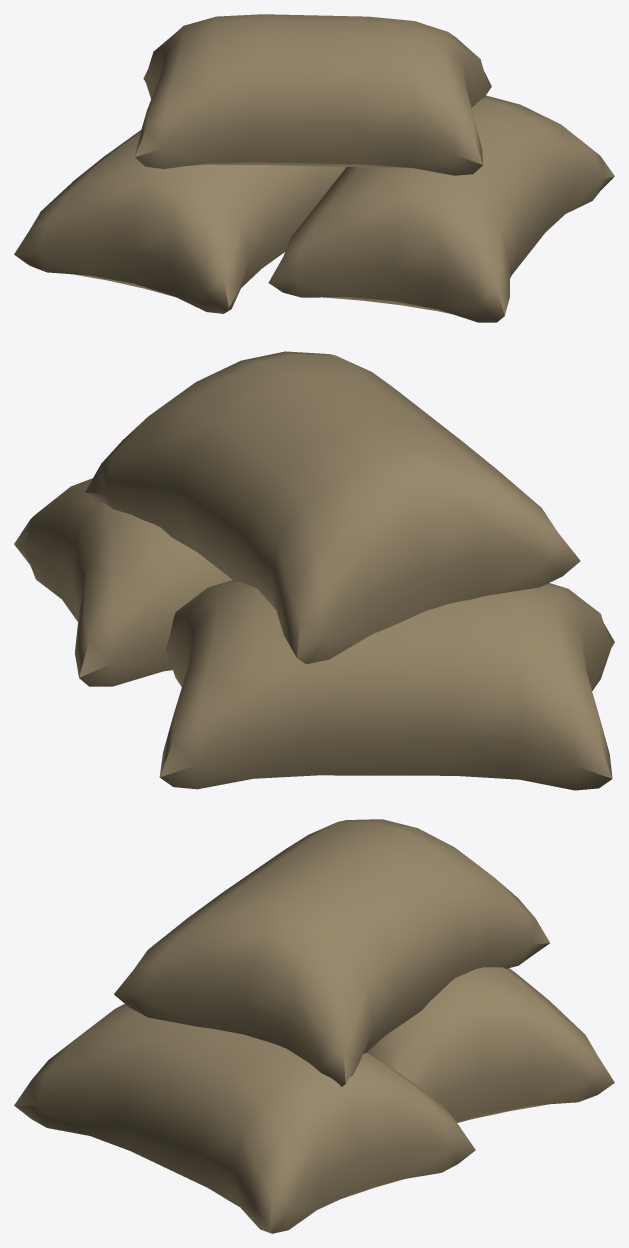
The model's file is Bags.glb.
3 views of the same model, one above another, from view 1: azimuth 30°, elevation 25°; view 2: azimuth 150°, elevation 25°; view 3: azimuth 270°, elevation 25° (orthographic). The views are drawn at different scales.
Visible parts, largest first — view 1: Bags; view 2: Bags; view 3: Bags.
Boxes of the visible parts, <box> form: Bags: <box>14,14,614,322</box>; Bags: <box>14,351,614,790</box>; Bags: <box>14,819,614,1233</box>.
Bounding box in the file's own units: 0.2697 × 0.1071 × 0.2392.
